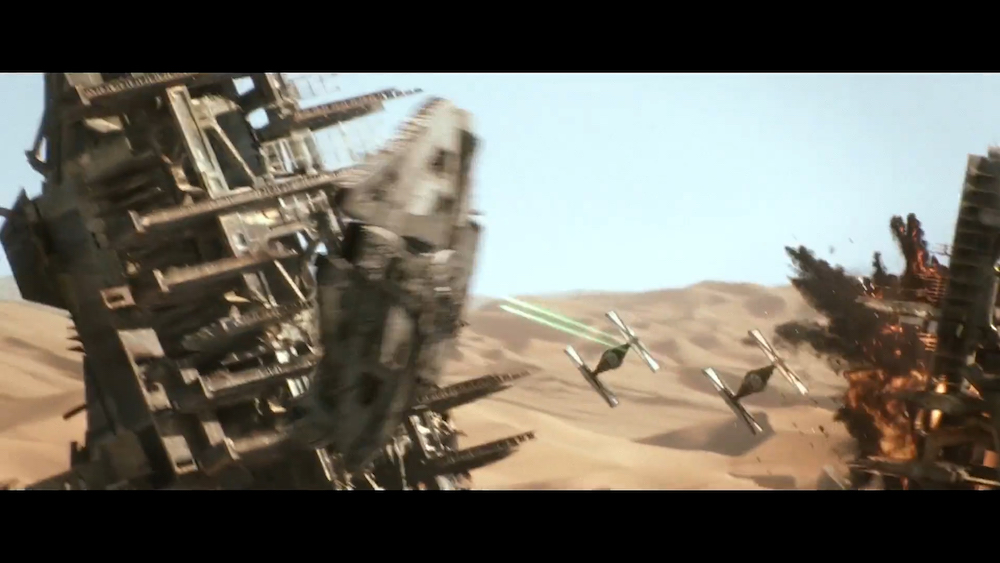Millennium Falcon: (280, 98, 486, 475)
Tie Fighter: (703, 327, 809, 439), (563, 310, 661, 410)
